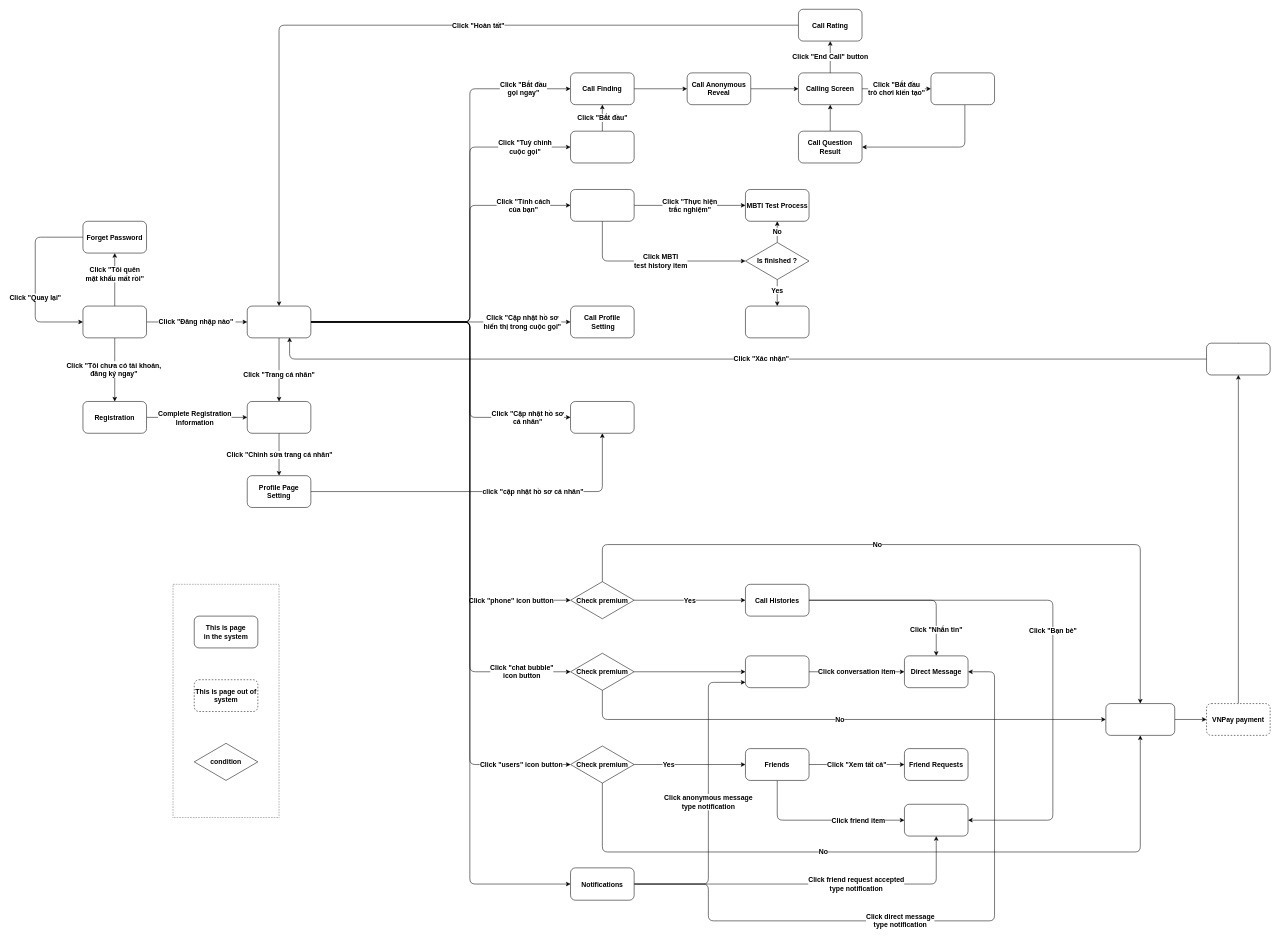
Some shapes in this 1279 by 938 pixel diagram are drawn without their labels. Here are the shapes that lost their labels. From the top down, the centre of each, then its label:
At (962,88): "Call Question".
At (602,147): "Call Queue Setup".
At (602,205): "MBTI Test History".
At (114,322): "Login Screen".
At (279,322): "Home".
At (777,322): "MBTI Test Result".
At (1238,359): "Payment Status".
At (279,417): "My Profile".
At (602,417): "My Information Setting".
At (777,671): "Conversations".
At (1140,719): "Premium Purchase".
At (936,820): "Friend Profile".
